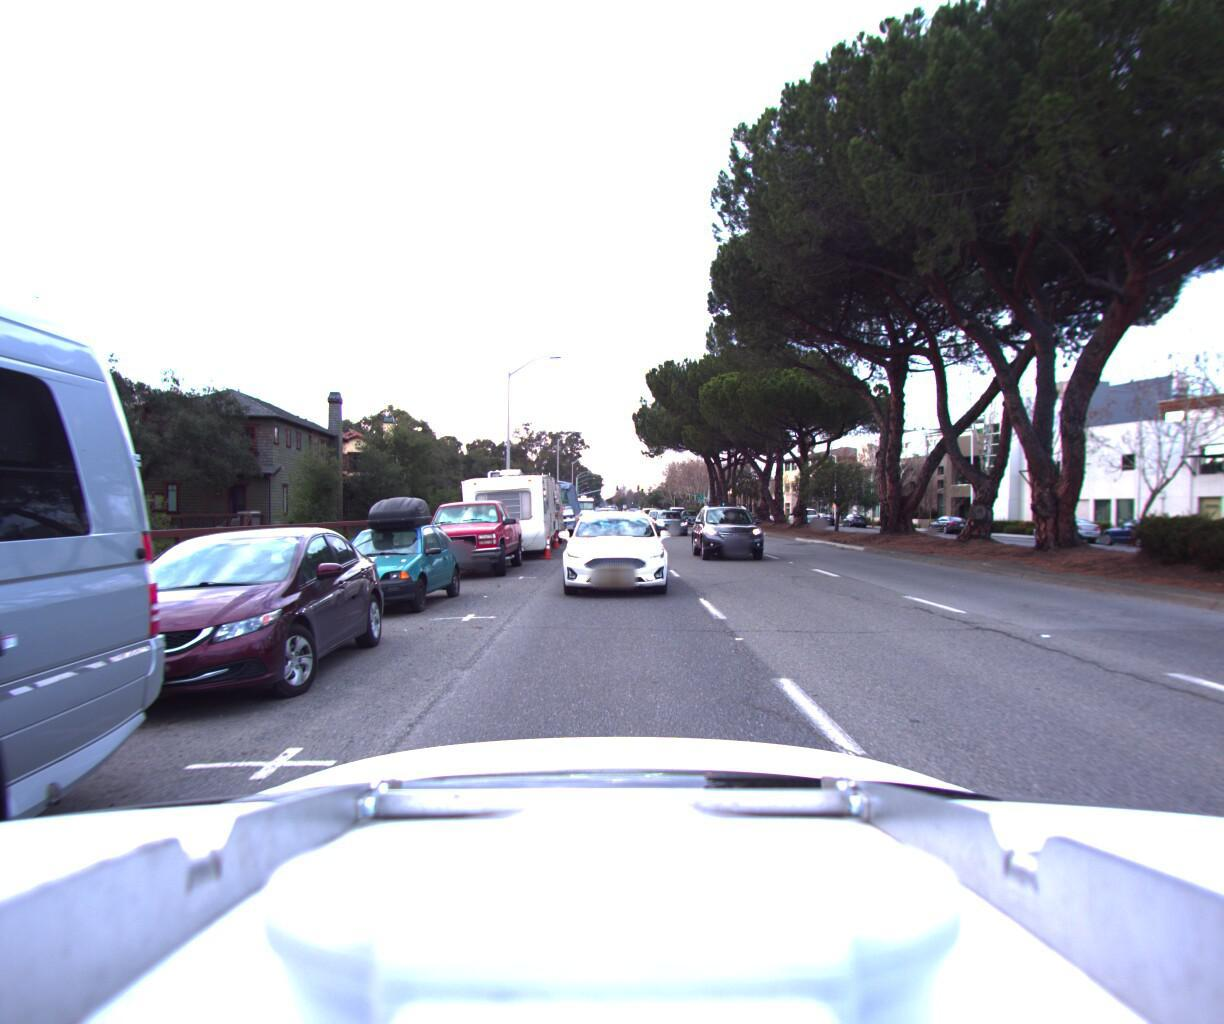car: (16, 522, 397, 736), (297, 490, 470, 627), (556, 507, 675, 606), (406, 494, 527, 585), (694, 498, 774, 563), (1022, 513, 1103, 541), (648, 505, 692, 535), (922, 513, 971, 532), (796, 509, 827, 527), (838, 510, 866, 524)
other_vehicle: (450, 453, 556, 561), (491, 467, 564, 545)
truck: (527, 472, 578, 536)
